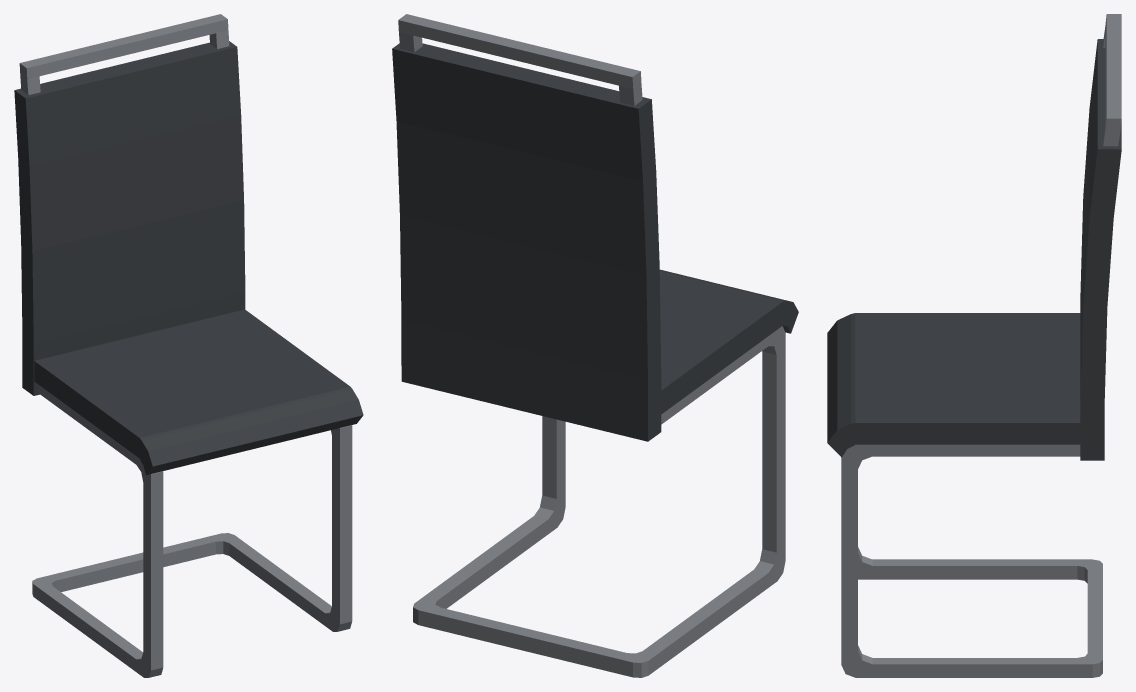
Rendered from Chair_06_C1.fbx.
3 views of the same model, side by side, from view 1: azimuth 30°, elevation 25°; view 2: azimuth 150°, elevation 25°; view 3: azimuth 270°, elevation 25° (orthographic). The views are drawn at different scales.
Visible parts, largest first — view 1: Chair_06_C1; view 2: Chair_06_C1; view 3: Chair_06_C1.
Boxes of the visible parts, box(x1,y1,x2,y2) form: Chair_06_C1: box(14, 14, 363, 677); Chair_06_C1: box(392, 14, 798, 677); Chair_06_C1: box(827, 14, 1121, 677).
Size of the model in its own units: 43.13 by 102 by 48.71.
